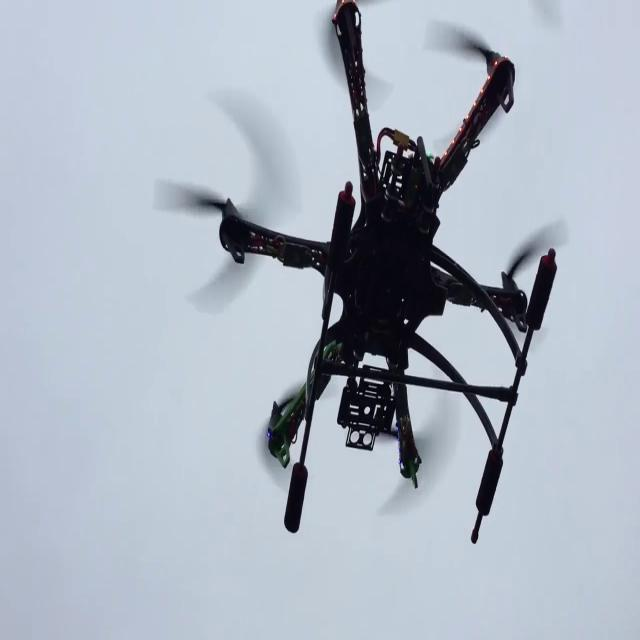drone: (197, 0, 592, 611)
